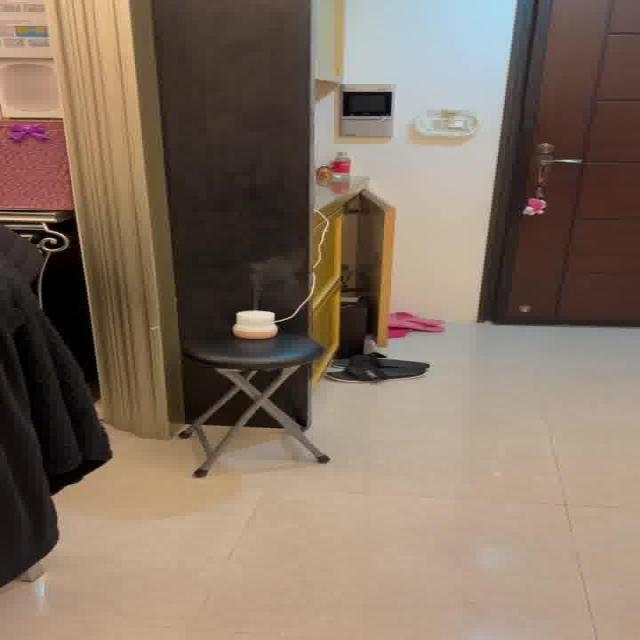fire: (246, 250, 303, 302)
